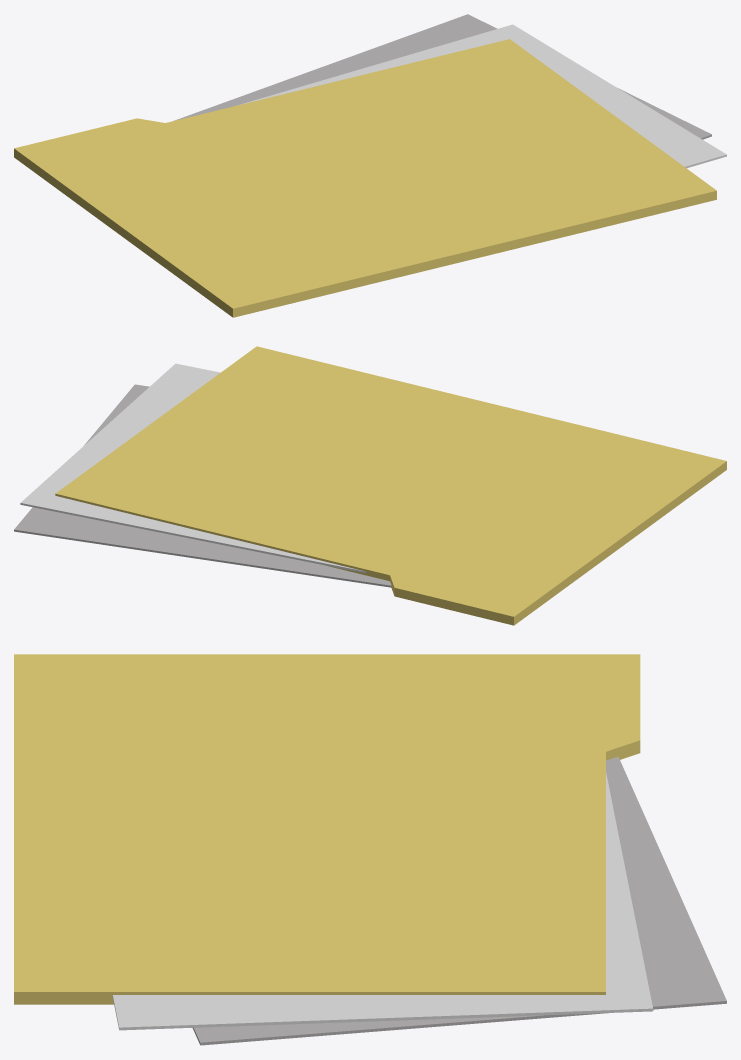
File: Mesh_MedicalFile_m01_v01.fbx
3 renders of one model, top to bottom at view 1: azimuth 30°, elevation 25°; view 2: azimuth 150°, elevation 25°; view 3: azimuth 270°, elevation 25°, orthographic. The views are drawn at different scales.
Parts seen in each view (by area): view 1: pCube7, pCube8, pCube9; view 2: pCube7, pCube8, pCube9; view 3: pCube7, pCube8, pCube9.
Boxes of the visible parts, x1,y1,x2,y2 form: pCube7: [14, 39, 716, 317]; pCube8: [238, 24, 726, 168]; pCube9: [174, 14, 711, 139]; pCube7: [55, 346, 726, 625]; pCube8: [20, 363, 366, 573]; pCube9: [14, 384, 391, 587]; pCube7: [14, 654, 640, 1004]; pCube8: [112, 772, 653, 1030]; pCube9: [192, 756, 726, 1045].
Size of the model in its own units: 0.4689 by 0.00745 by 0.3723.
